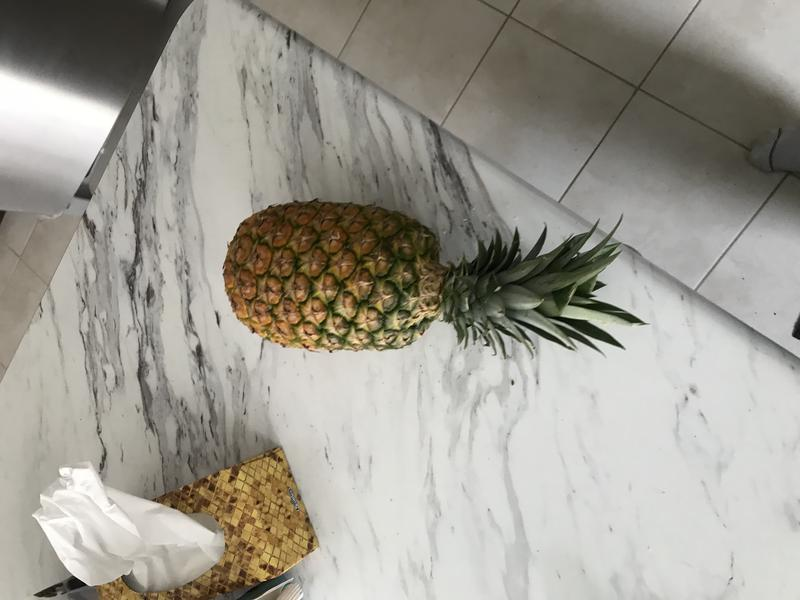pineapple: (217, 197, 650, 368)
